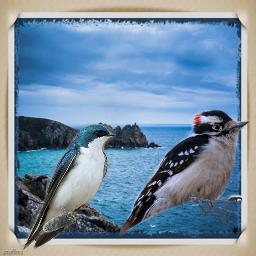Swallow: (22, 124, 116, 251)
Woodpecker: (120, 110, 250, 236)
